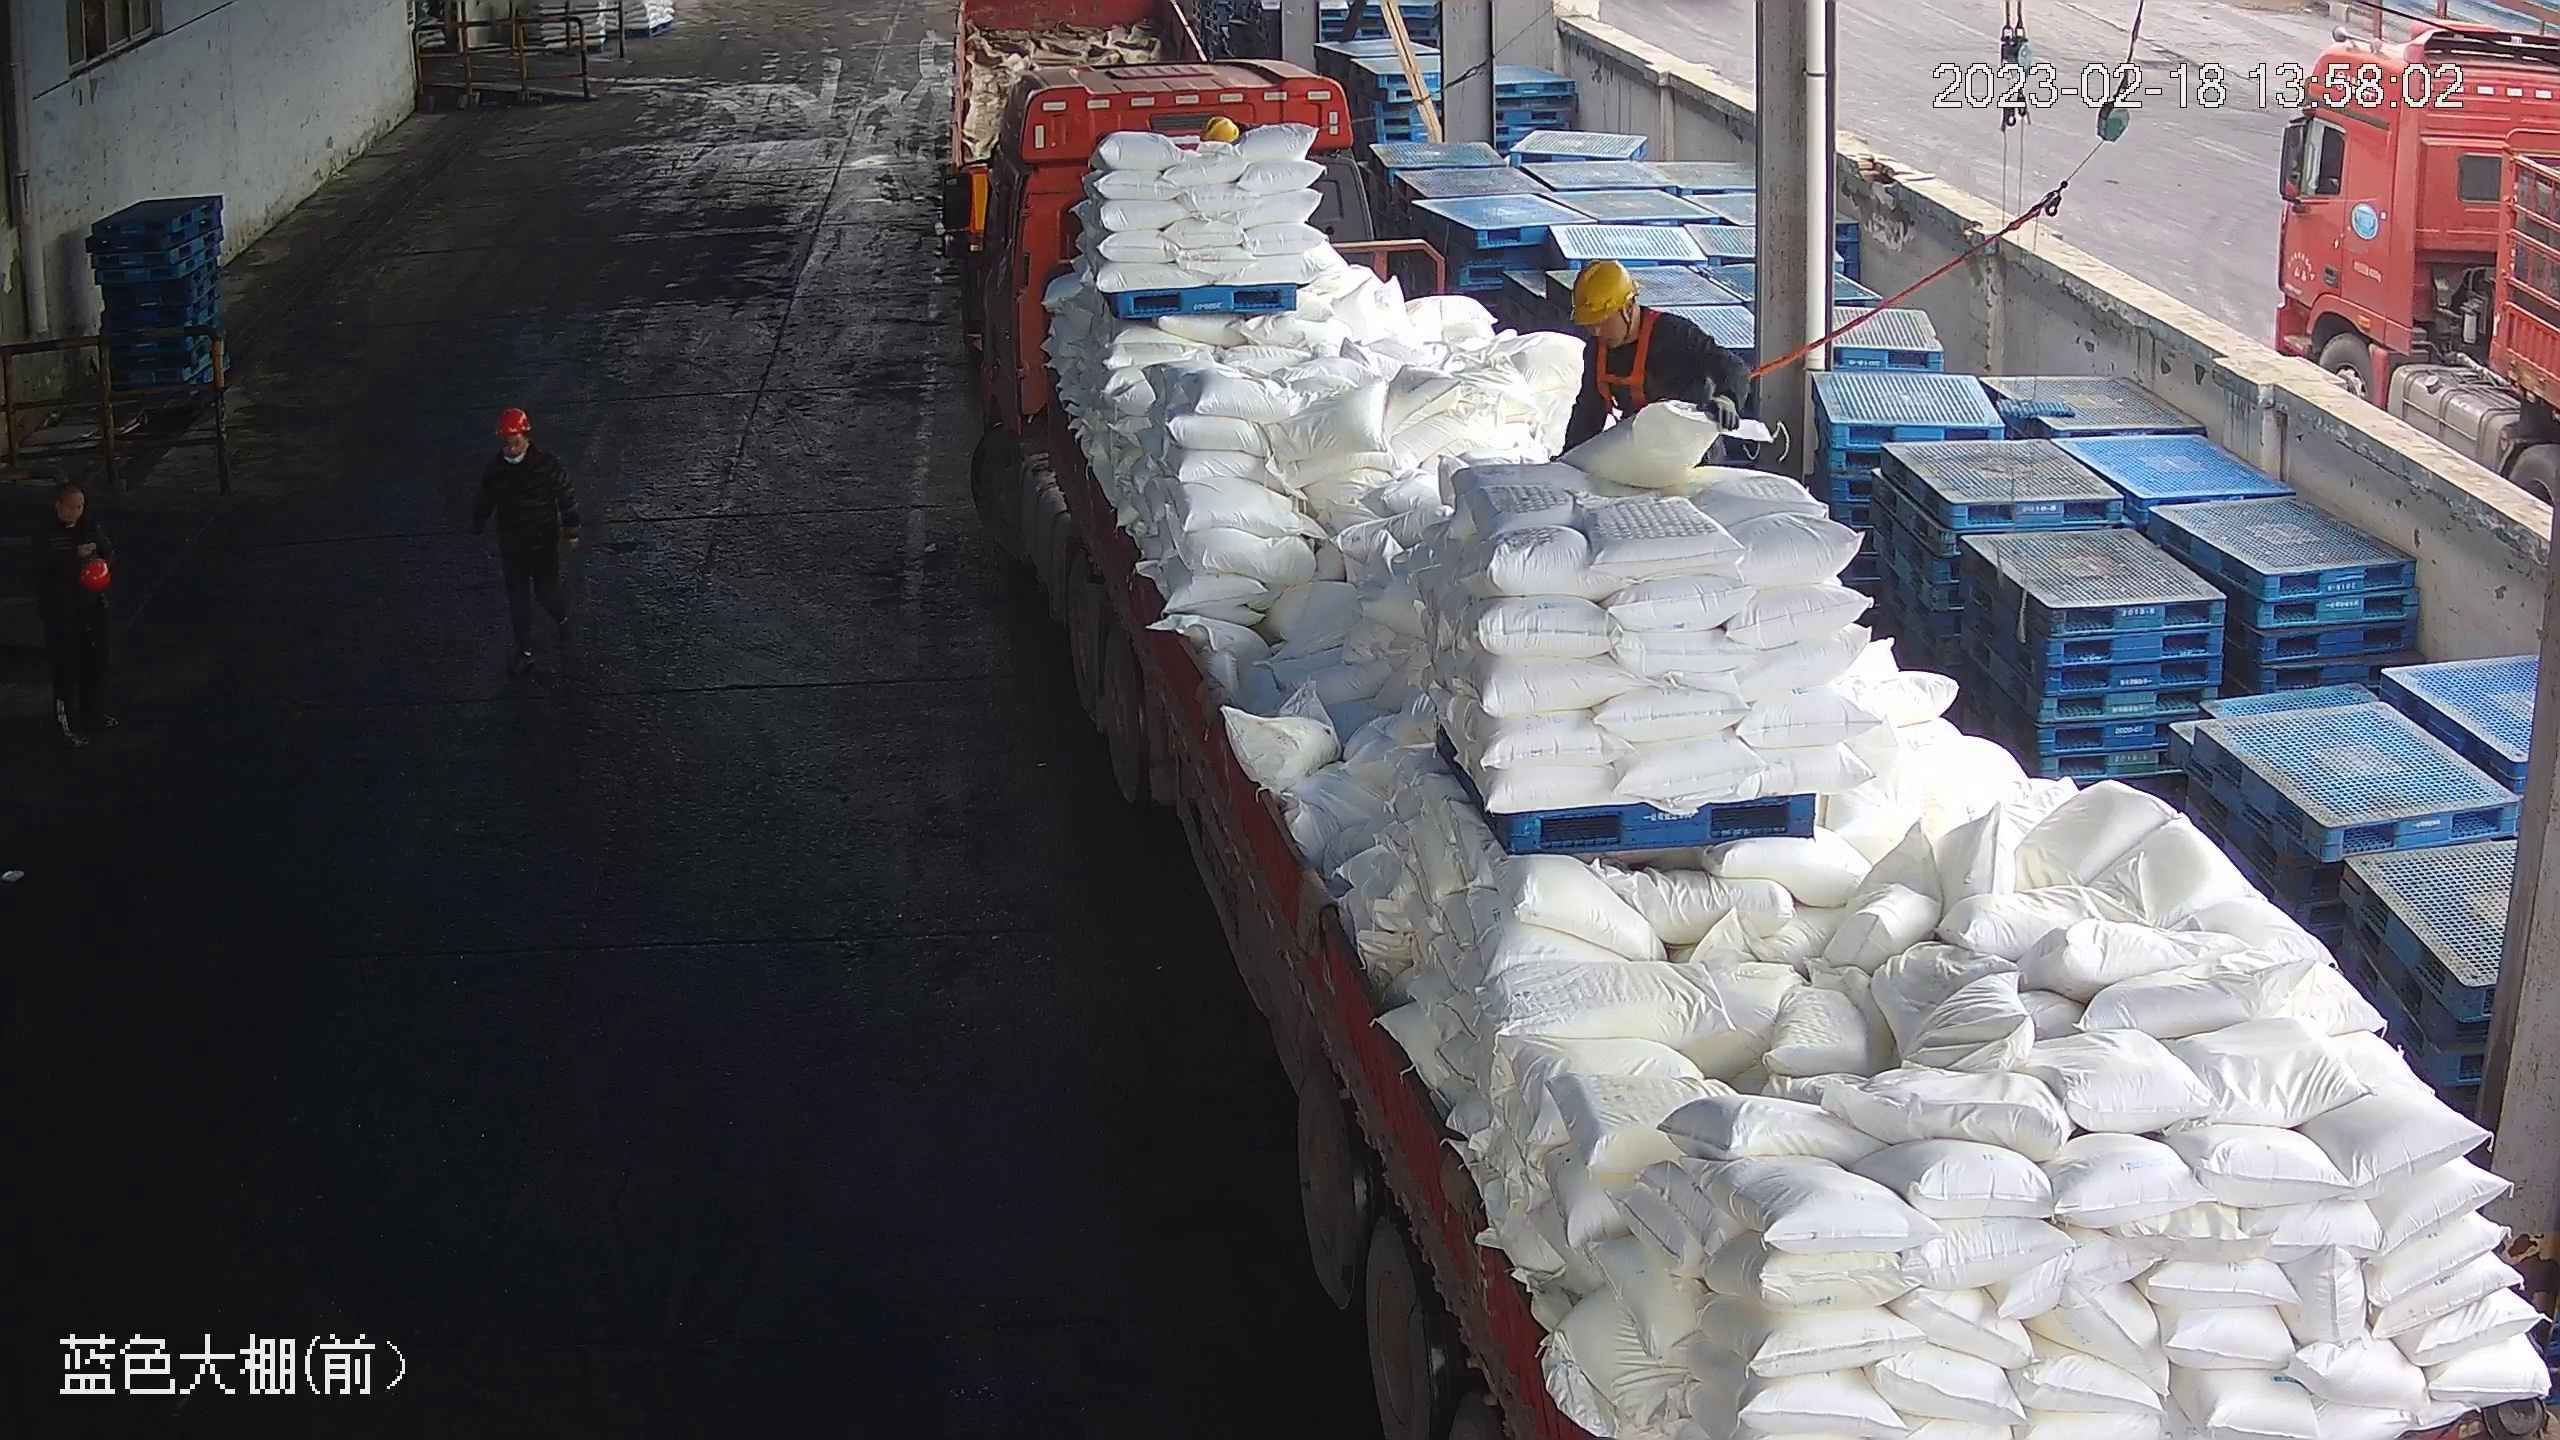belt: (1595, 307, 1681, 420)
head: (1565, 255, 1717, 372), (478, 407, 562, 481), (36, 490, 101, 565)
helmet: (1568, 256, 1640, 326), (491, 404, 532, 434), (1199, 113, 1241, 141), (52, 489, 83, 519)
people: (469, 406, 581, 674), (29, 487, 116, 748)
truck: (946, 46, 2558, 1440)
